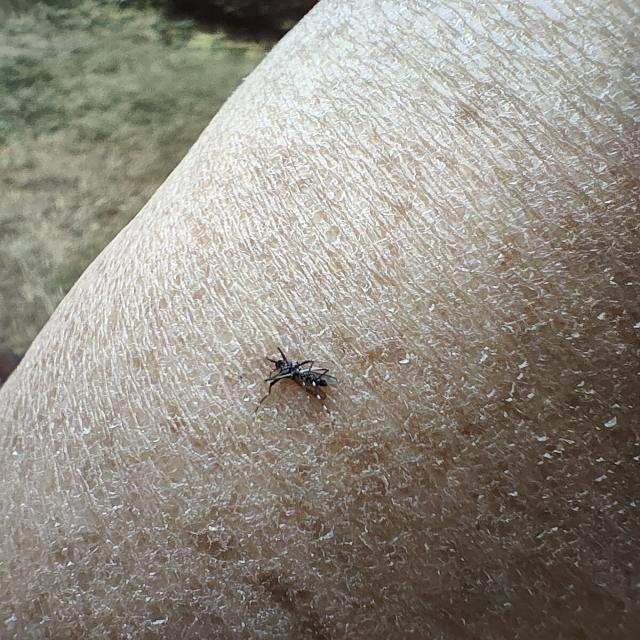albopictus: (248, 341, 341, 422)
